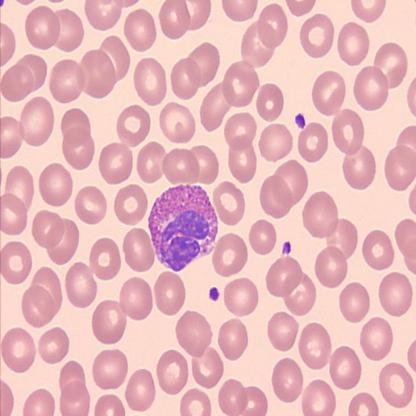Eosinophil: (148, 184, 218, 272)
